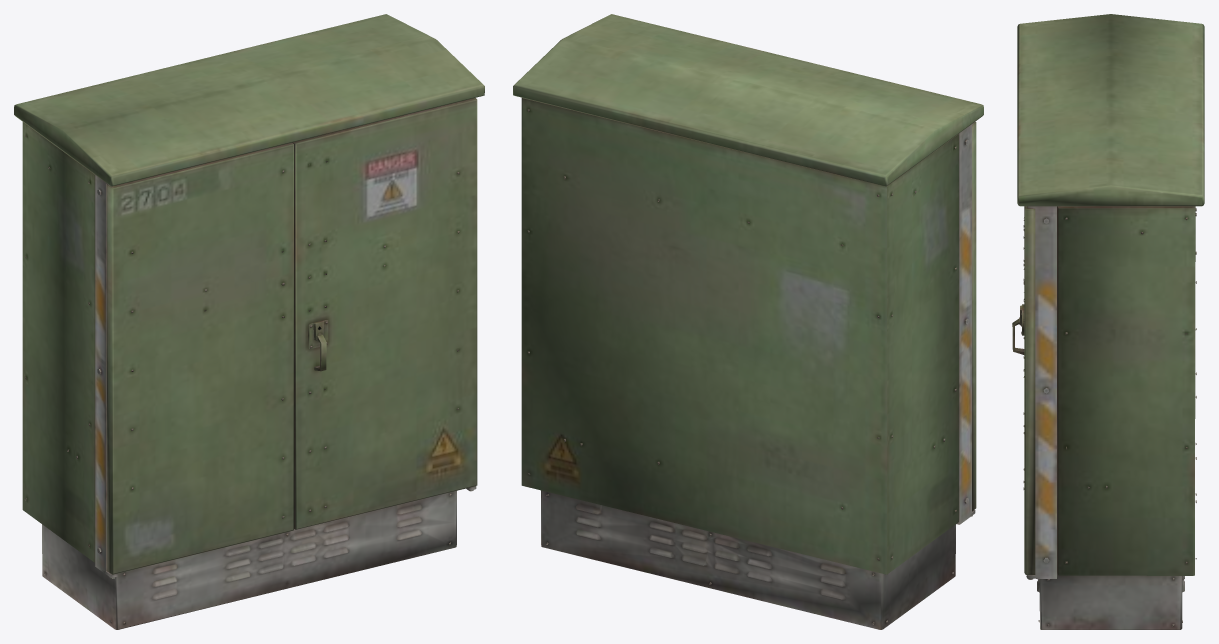
The model's file is utility_box_big.glb.
3 renders of one model, left to right at view 1: azimuth 30°, elevation 25°; view 2: azimuth 150°, elevation 25°; view 3: azimuth 270°, elevation 25°, orthographic. The views are drawn at different scales.
Parts seen in each view (by area): view 1: utility_box_02; view 2: utility_box_02; view 3: utility_box_02.
Part boxes in pixels (bbox=[...]): utility_box_02: bbox=[14, 14, 484, 629]; utility_box_02: bbox=[513, 14, 983, 629]; utility_box_02: bbox=[1012, 14, 1204, 629].
Bounding box in the file's own units: 0.92 × 1.12 × 0.4312.
1 material, 1 textured.
